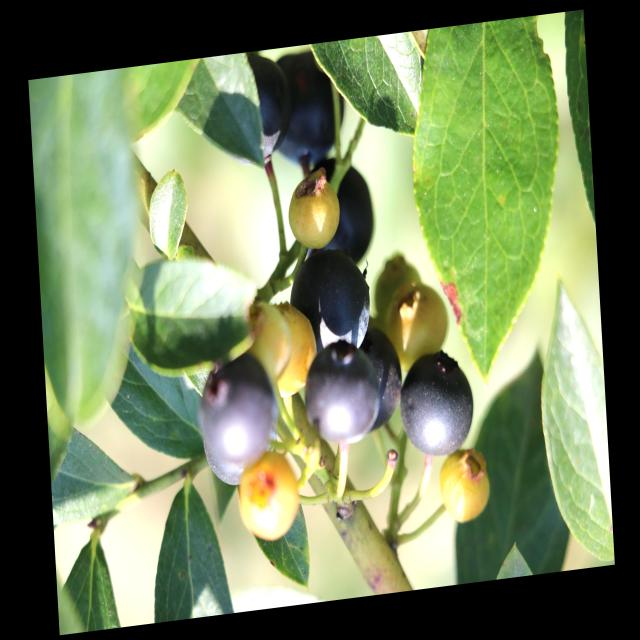blueberry: (280, 231, 380, 383), (262, 39, 353, 174), (194, 349, 285, 476), (296, 325, 384, 452), (394, 341, 481, 467), (302, 148, 380, 280), (226, 48, 300, 171), (342, 322, 410, 441), (194, 419, 285, 496)
blueberry-unripe: (380, 275, 451, 366), (259, 297, 320, 402), (234, 451, 300, 545), (286, 166, 348, 257), (438, 447, 496, 526)
